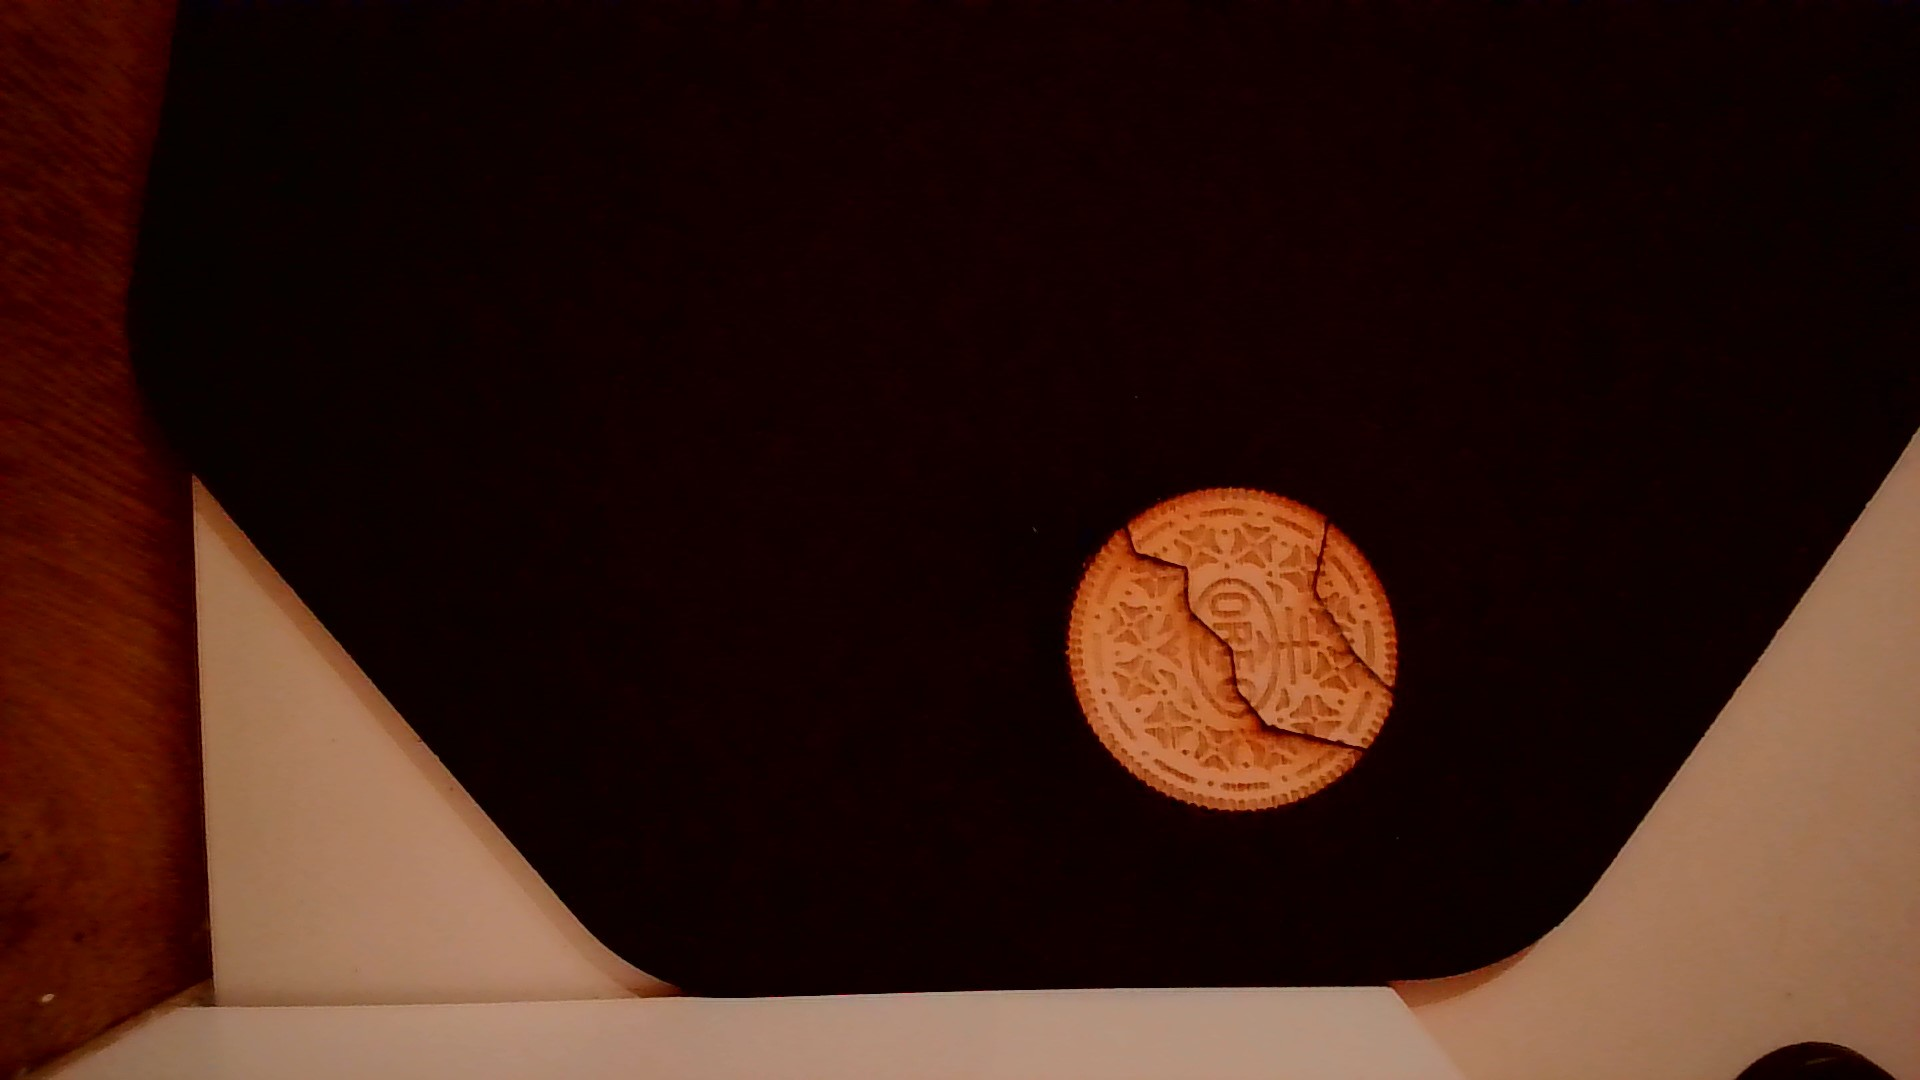Fissure: (1118, 526, 1373, 756), (1298, 518, 1400, 700)
Oréo: (1060, 479, 1406, 822)
